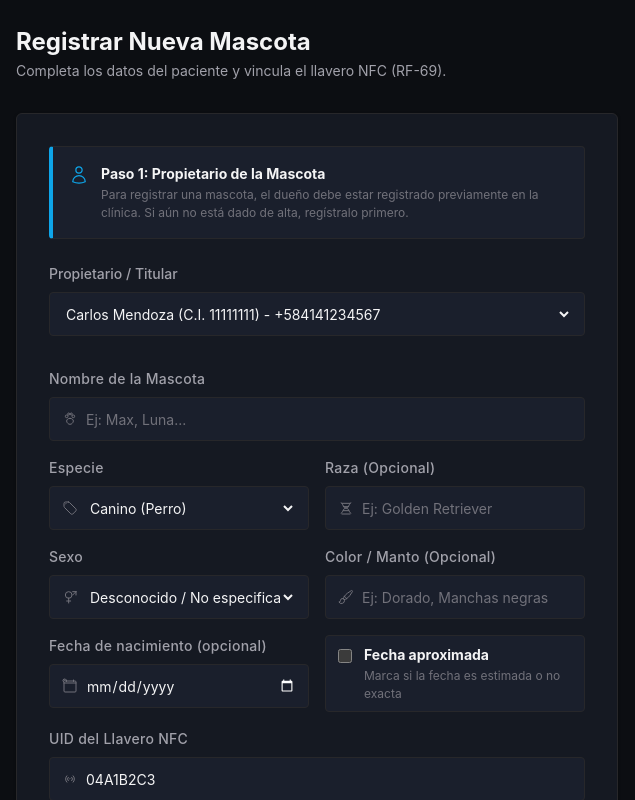
UI Integration: PetRegisterScreen (RF-69, RF-30, RNF-3) › debe crear la mascota y asociar el tag NFC exitosamente
Rellenar nombre
Type "Firulais" into the field with placeholder "Ej: Max, Luna..." at (329, 419), box [86, 398, 572, 440]
(page scrolled)
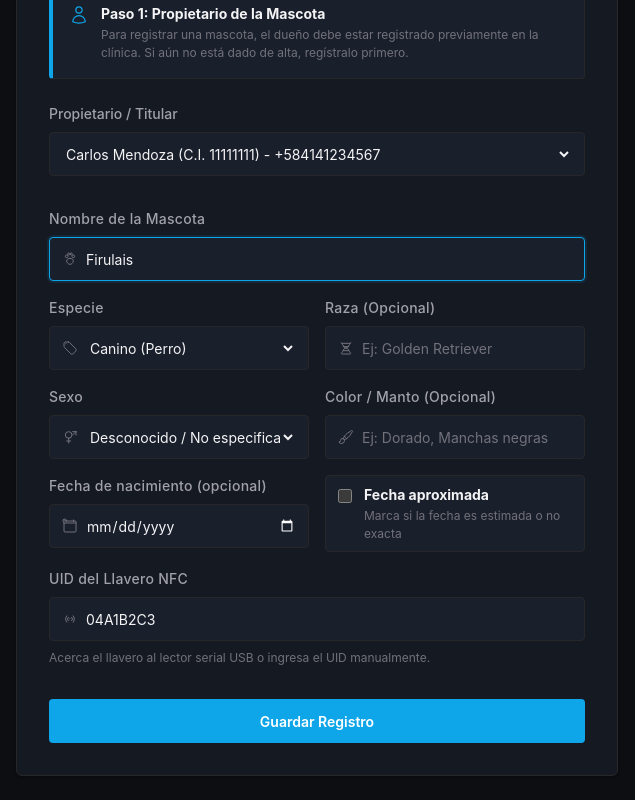
Enviar formulario
Click the button "Guardar Registro" at (317, 721), box [49, 699, 585, 743]
(page scrolled)
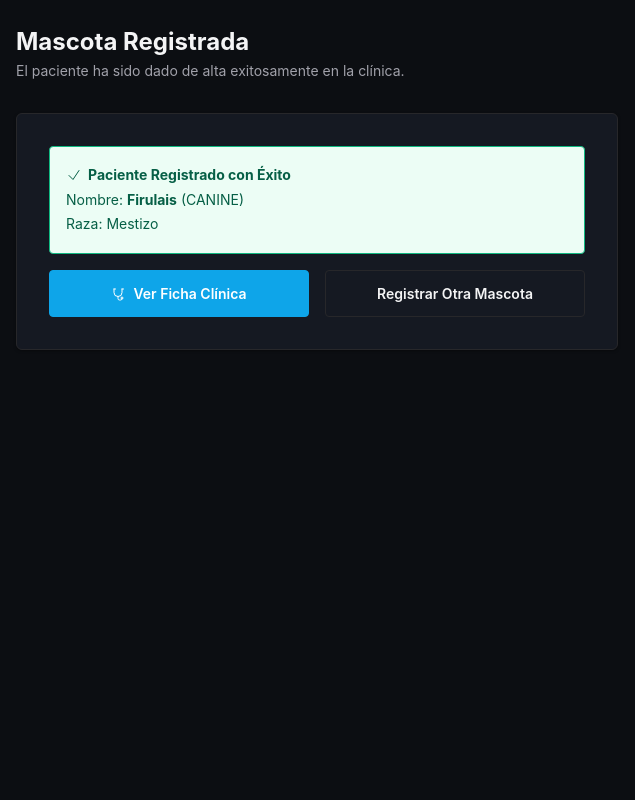
Expected: the text "Paciente Registrado con Éxito" is shown, [66, 166, 291, 183]
